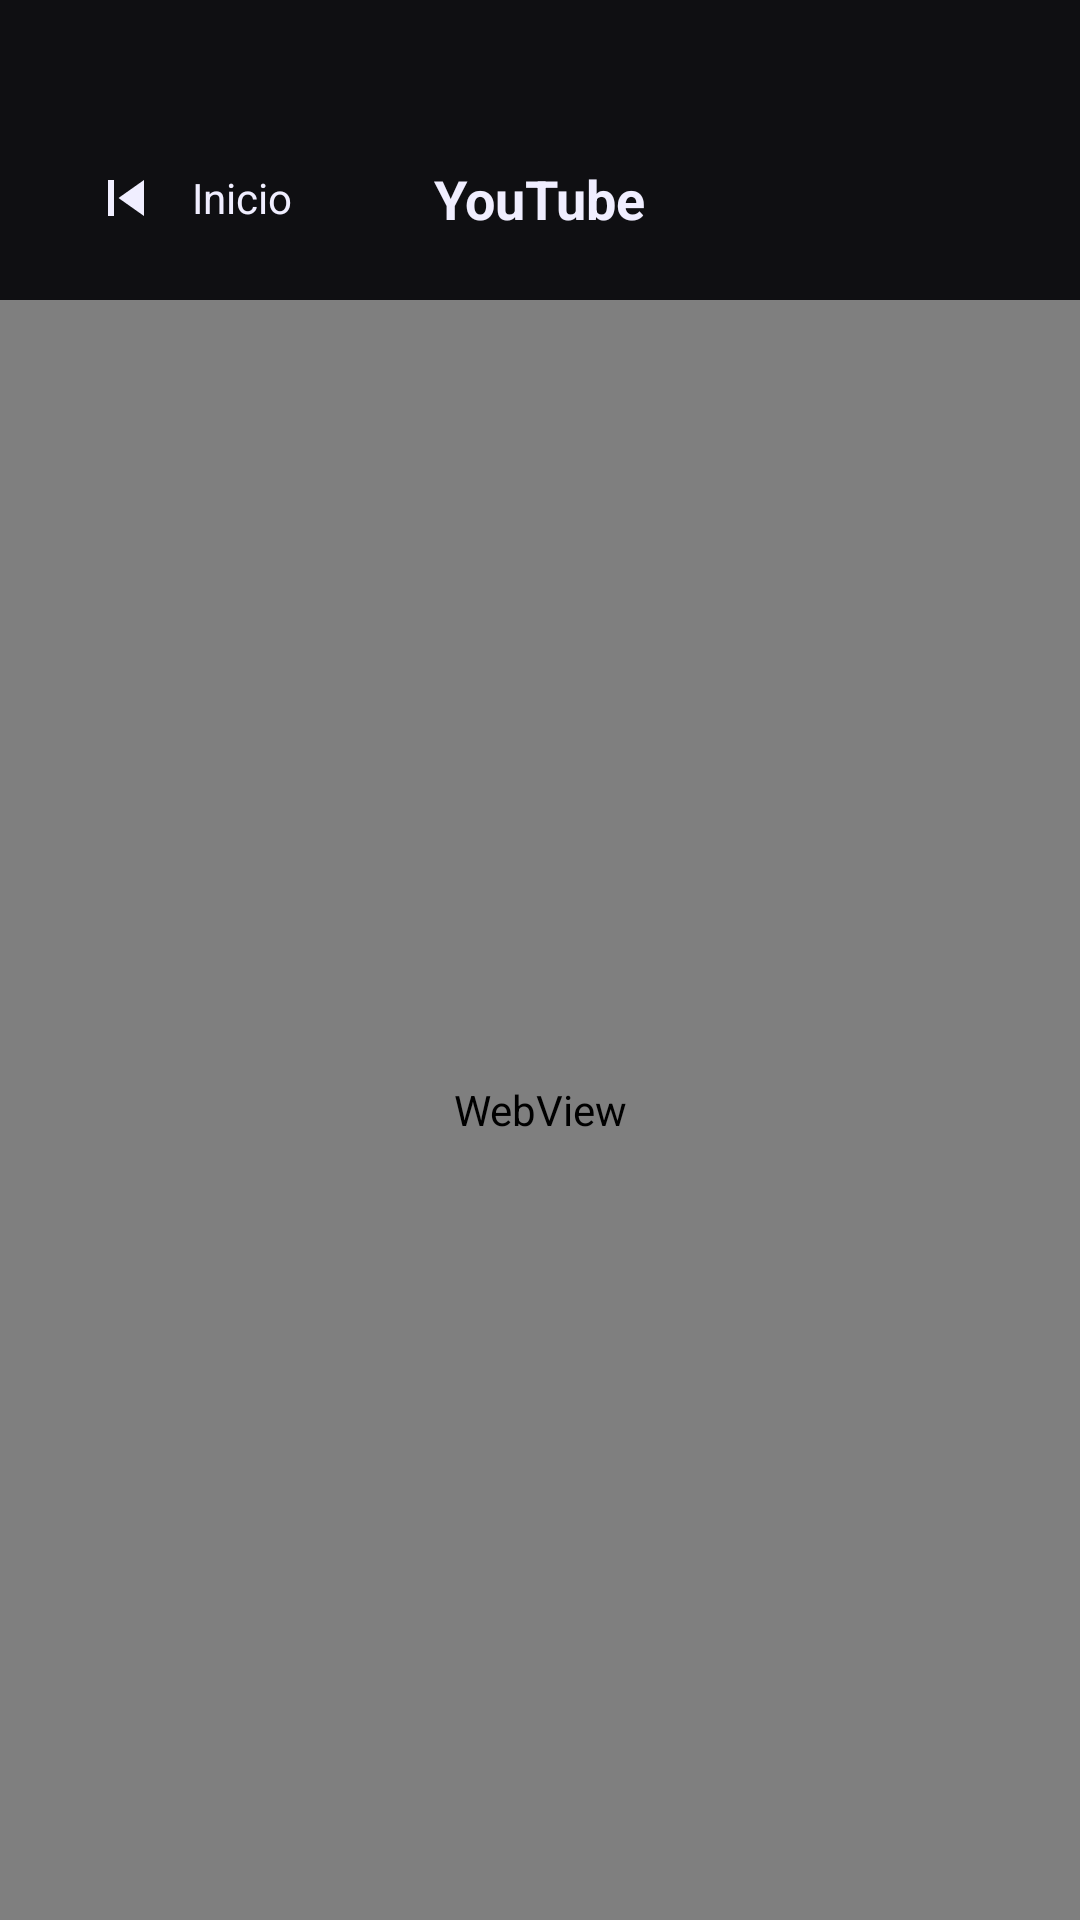

Named icons in this screenshot (1080 × 1920) and their centers, [x,y]:
Volver: [126,198]
